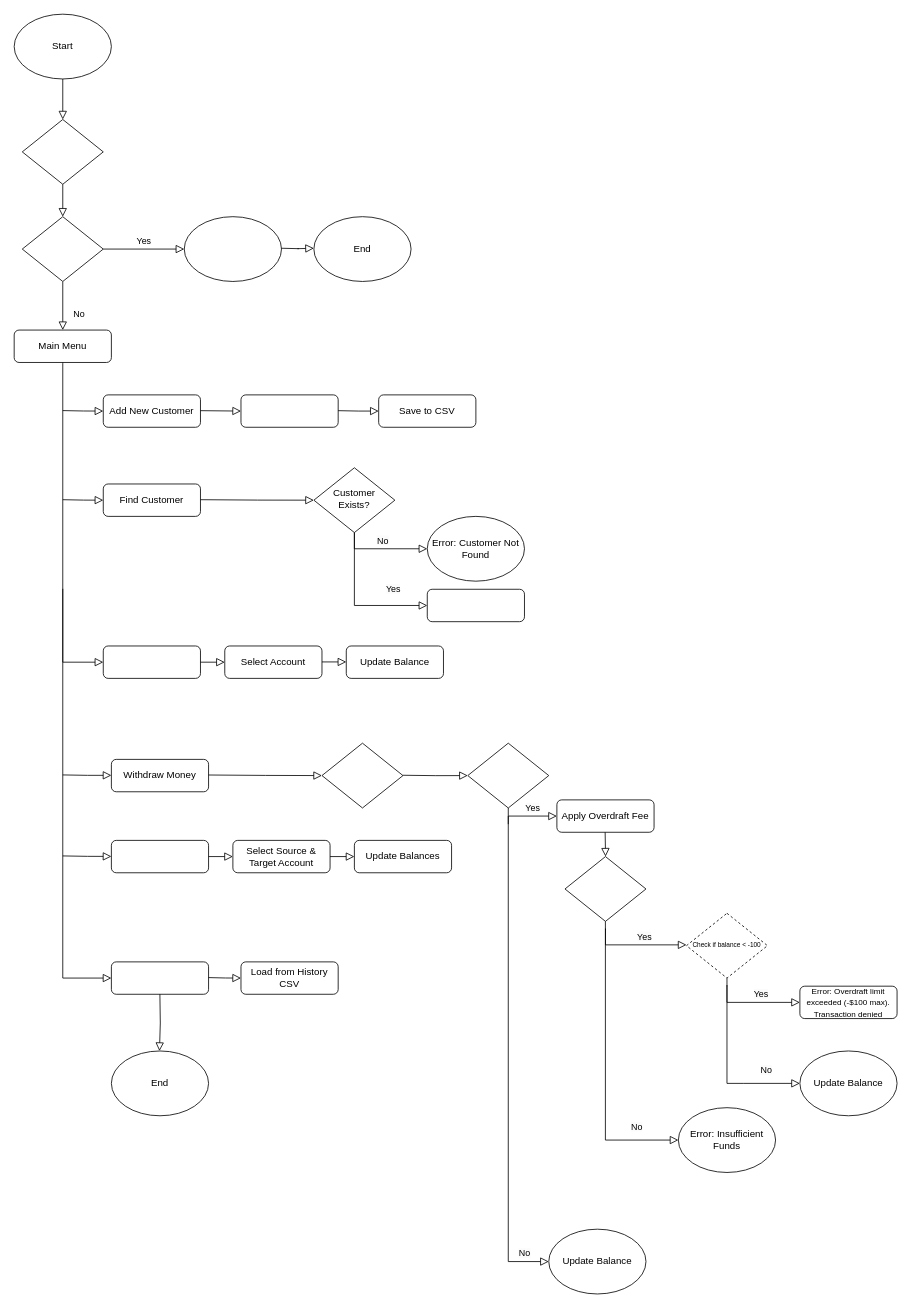
This 911x1308 diagram has some shape labels left out. The shapes that lost their labels are listed below. From the top down, each one's box as (x1, y1, x2, y2) in pixels, then its label:
(21, 119, 103, 184): Cashier Login
(21, 216, 103, 281): Failed?
(183, 216, 281, 281): Error: Invalid Credentials
(240, 394, 338, 427): Enter Customer Details
(426, 588, 524, 622): Proceed with Transactions
(102, 645, 200, 678): Deposit Money
(321, 742, 403, 808): Check Balance
(467, 742, 549, 808): Overdraft Check?
(111, 840, 209, 873): Transfer Money
(564, 856, 646, 921): Allowed?
(111, 961, 209, 994): View Transactions
